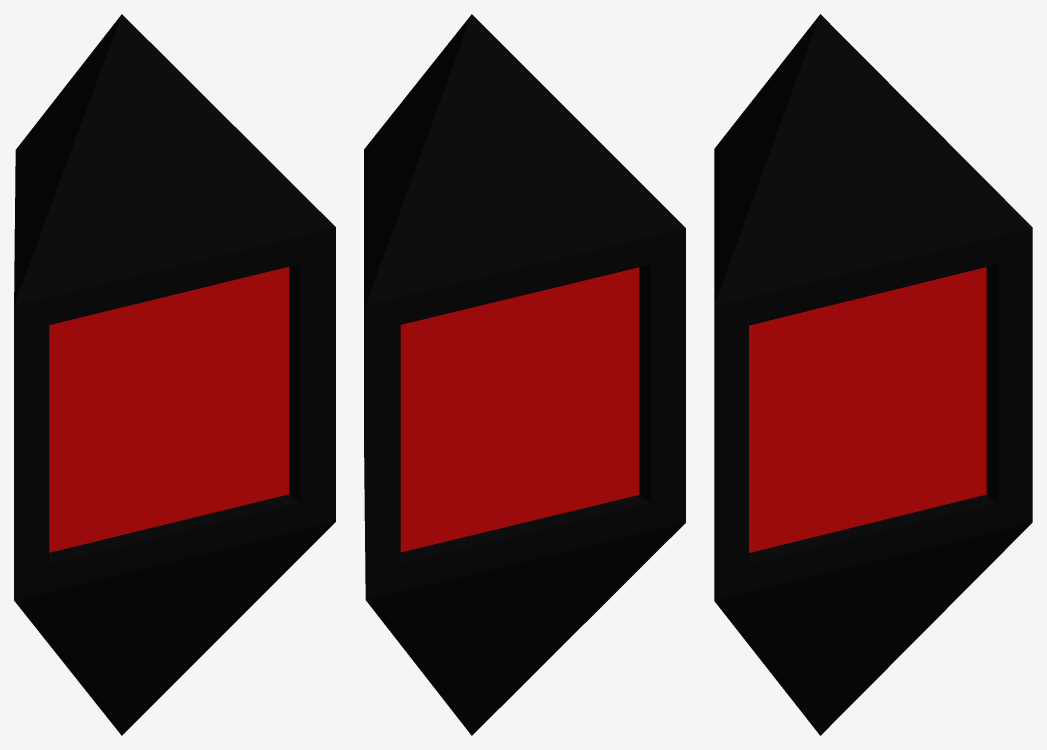
The model's file is collecteble 1.fbx.
3 renders of one model, left to right at view 1: azimuth 30°, elevation 25°; view 2: azimuth 150°, elevation 25°; view 3: azimuth 270°, elevation 25°, orthographic.
Parts seen in each view (by area): view 1: Cylinder; view 2: Cylinder; view 3: Cylinder.
Part boxes in pixels (box(x1,y1,x2,y2)): Cylinder: box(14, 14, 335, 735); Cylinder: box(364, 14, 685, 735); Cylinder: box(714, 14, 1032, 735).
Bounding box in the file's own units: 0.271 × 0.5806 × 0.2322.
